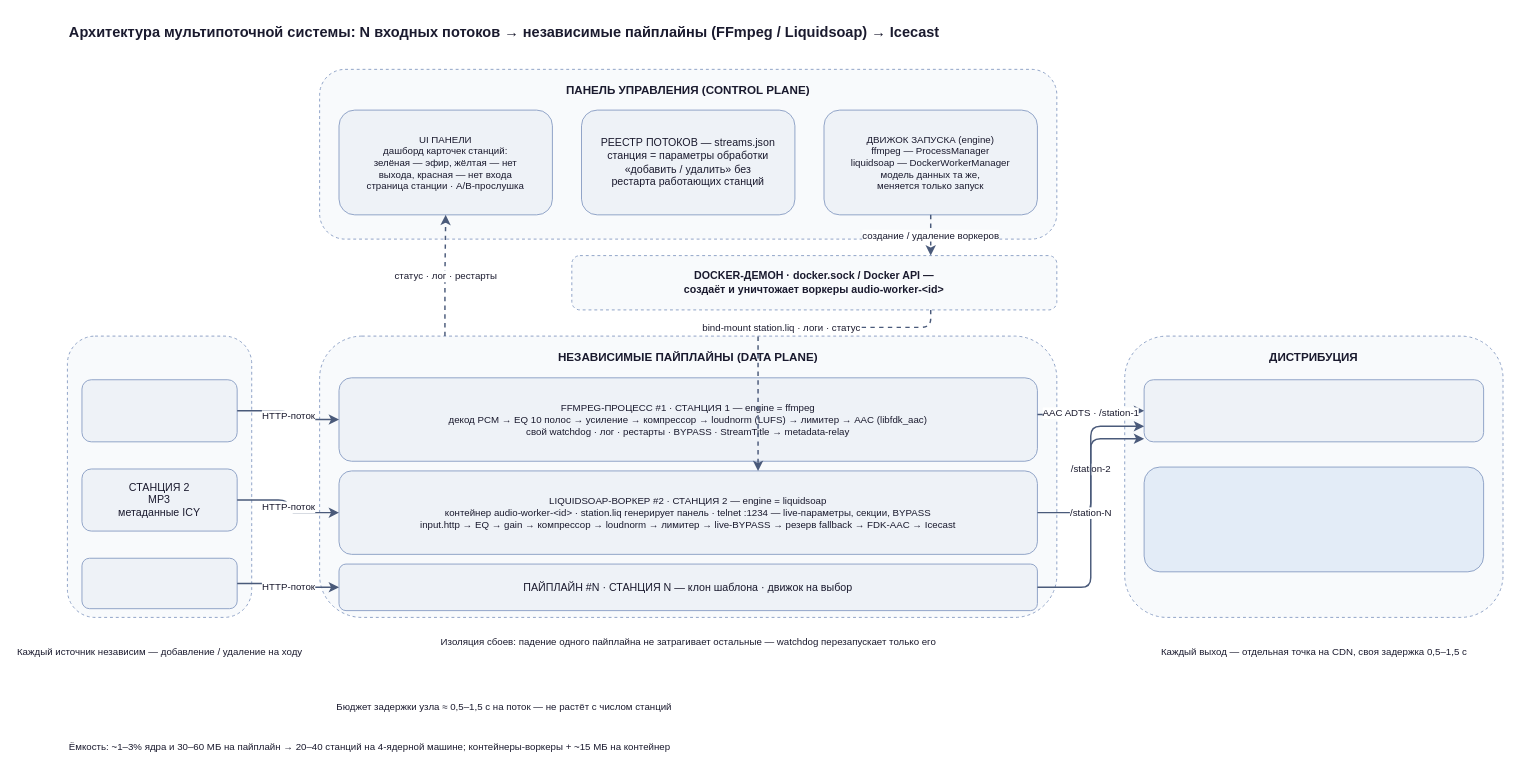
The diagram is 1520 pixels wide and 782 high, and some of its shapes have lost their labels. Each missing label, with the box of its shape:
ICECAST / CDN-ПРОВАЙДЕР приём потоков: (1143, 379, 1484, 442)
ВХОДНЫЕ ПОТОКИ · N СТАНЦИЙ: (66, 335, 252, 617)
СТАНЦИЯ 1 AAC / HE-AAC метаданные ICY: (81, 379, 237, 442)
СТАНЦИЯ N любой формат: (81, 557, 237, 609)
ТОЧКИ МОНТИРОВАНИЯ /station-1 /station-2 … /station-N: (1143, 466, 1484, 572)
